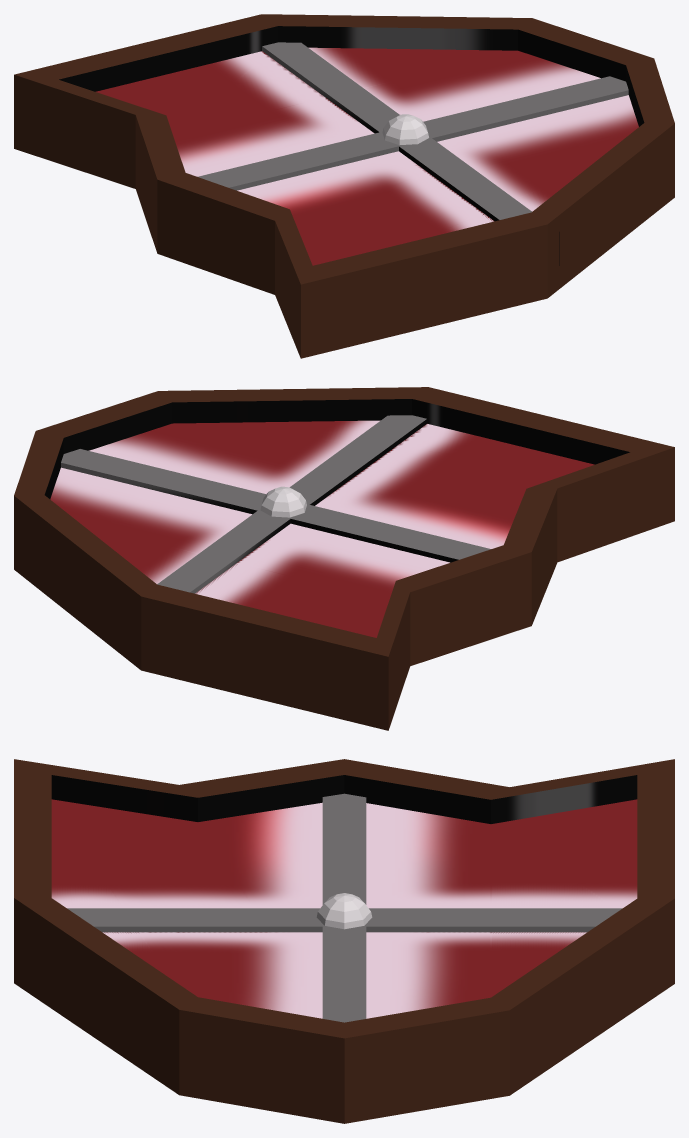
File: shield.fbx
The picture shows the model from 3 angles, top to bottom: view 1: azimuth 30°, elevation 25°; view 2: azimuth 150°, elevation 25°; view 3: azimuth 270°, elevation 25°; orthographic projection. The views are drawn at different scales.
Parts seen in each view (by area): view 1: Sphere; view 2: Sphere; view 3: Sphere.
Boxes of the visible parts, x1=… form: Sphere: x1=14, y1=14, x2=674, y2=358; Sphere: x1=14, y1=387, x2=674, y2=730; Sphere: x1=14, y1=759, x2=674, y2=1123.
Bounding box in the file's own units: 200 × 29.57 × 200.
